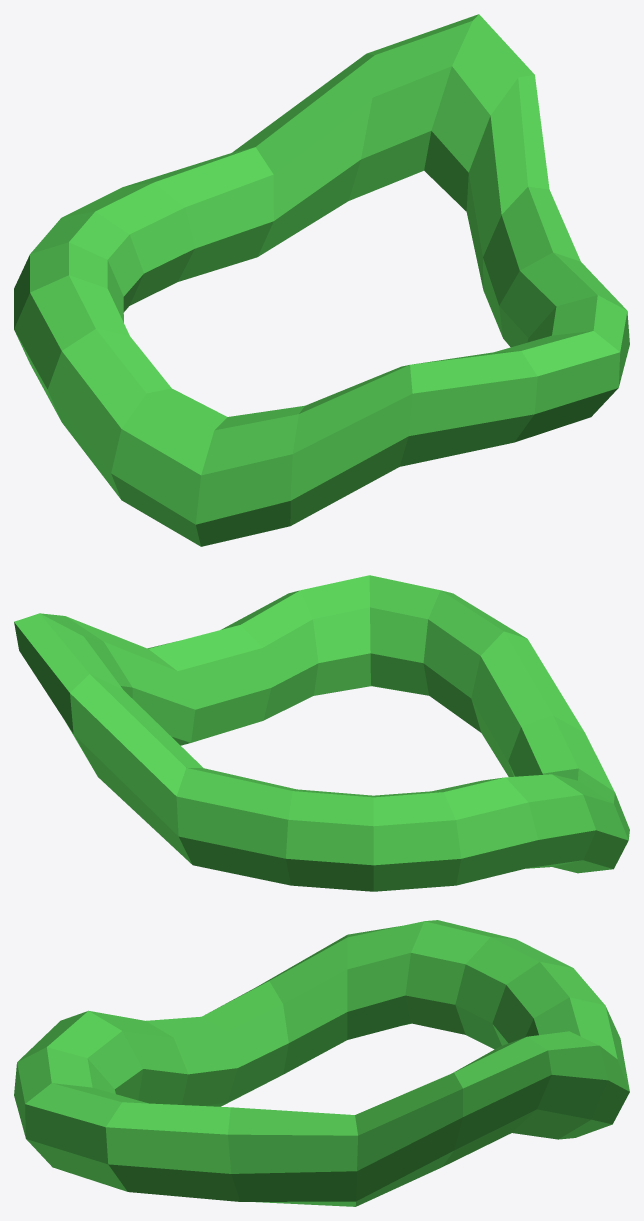
File: Karet.fbx
3 renders of one model, top to bottom at view 1: azimuth 30°, elevation 25°; view 2: azimuth 150°, elevation 25°; view 3: azimuth 270°, elevation 25°, orthographic. The views are drawn at different scales.
Visible parts, largest first — view 1: Torus; view 2: Torus; view 3: Torus.
Part boxes in pixels (x1,y1,x2,y2): Torus: [14, 14, 629, 546]; Torus: [14, 575, 629, 891]; Torus: [14, 920, 629, 1206].
Bounding box in the file's own units: 283 × 142 × 279.
